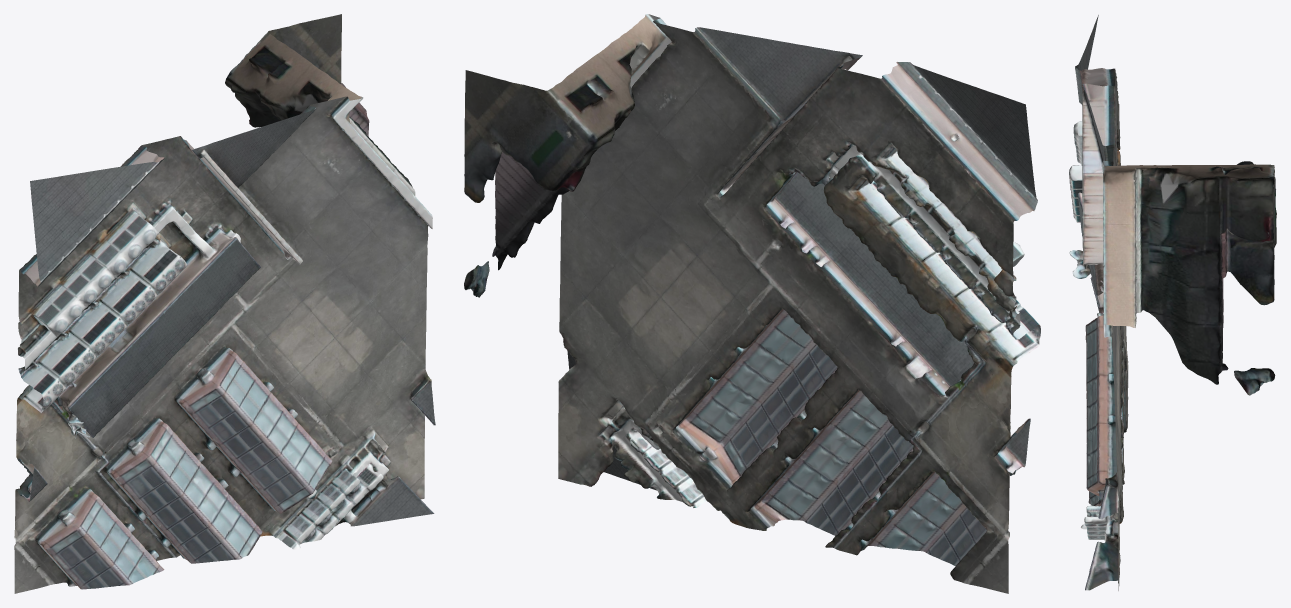
Rendered from Tile_+006_+011.fbx.
The picture shows the model from 3 angles, left to right: view 1: azimuth 30°, elevation 25°; view 2: azimuth 150°, elevation 25°; view 3: azimuth 270°, elevation 25°; orthographic projection. The views are drawn at different scales.
Parts seen in each view (by area): view 1: DefaultName; view 2: DefaultName; view 3: DefaultName.
Part boxes in pixels (left/top/right/bottom): DefaultName: left=14, top=14, right=435, bottom=593; DefaultName: left=464, top=14, right=1040, bottom=593; DefaultName: left=1069, top=15, right=1276, bottom=590.
Size of the model in its own units: 22.54 by 22.54 by 10.74.
